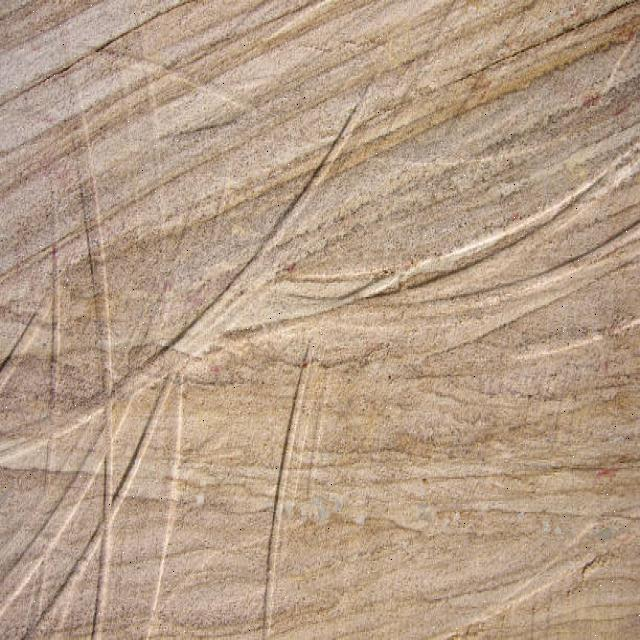Sedimentary: (1, 1, 637, 640)
